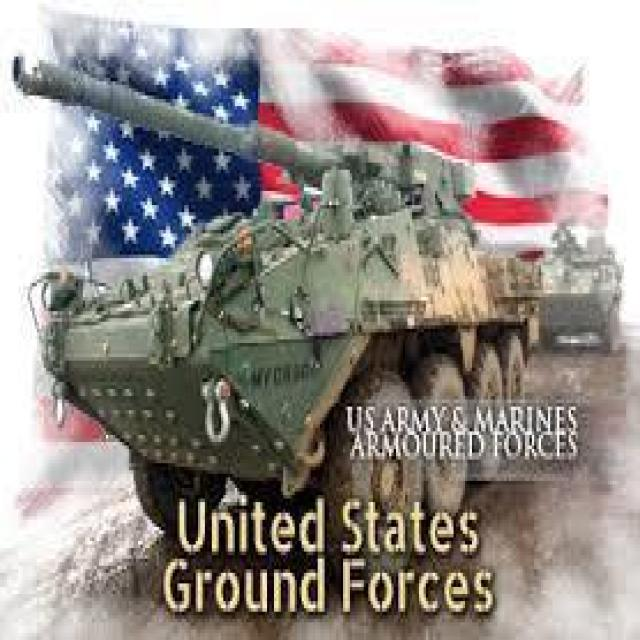Tanks: (11, 16, 552, 613)
